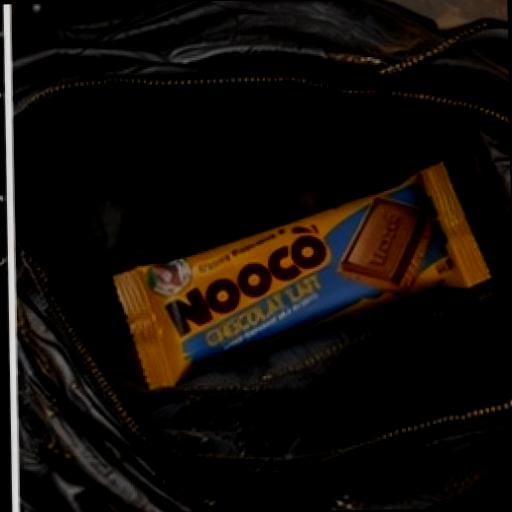biscuit-detection: (91, 152, 500, 378)
